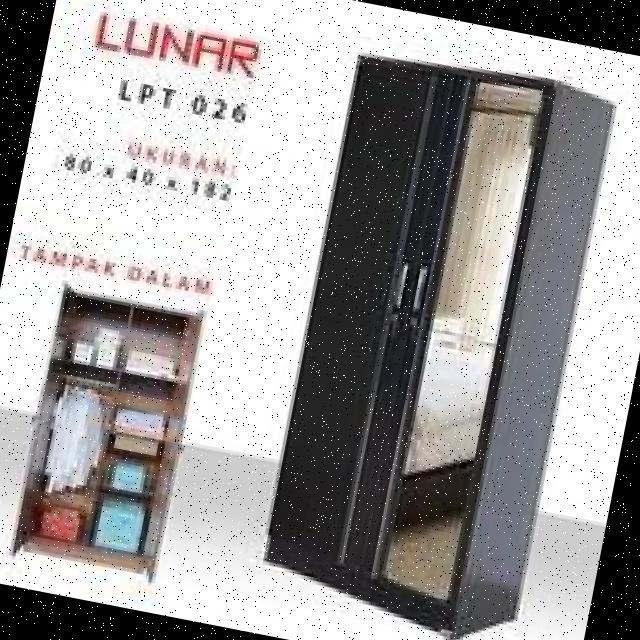Closet: (246, 41, 630, 640), (5, 276, 214, 591)
